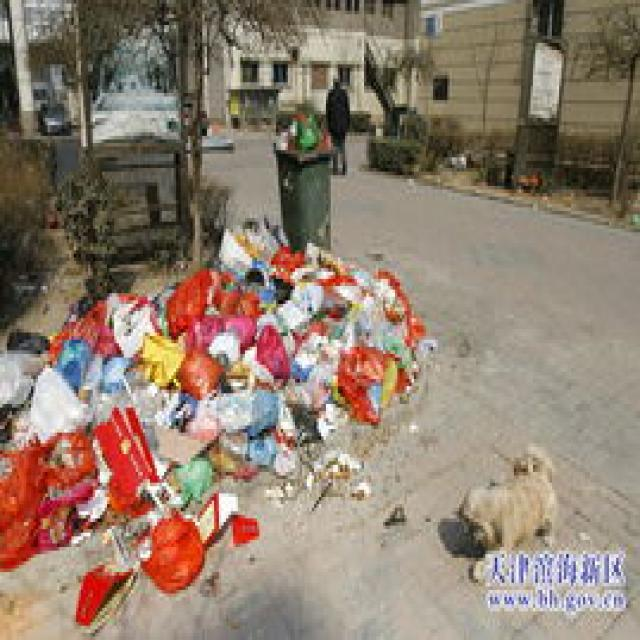garbage: (0, 210, 423, 636)
overflow: (271, 107, 331, 243)
